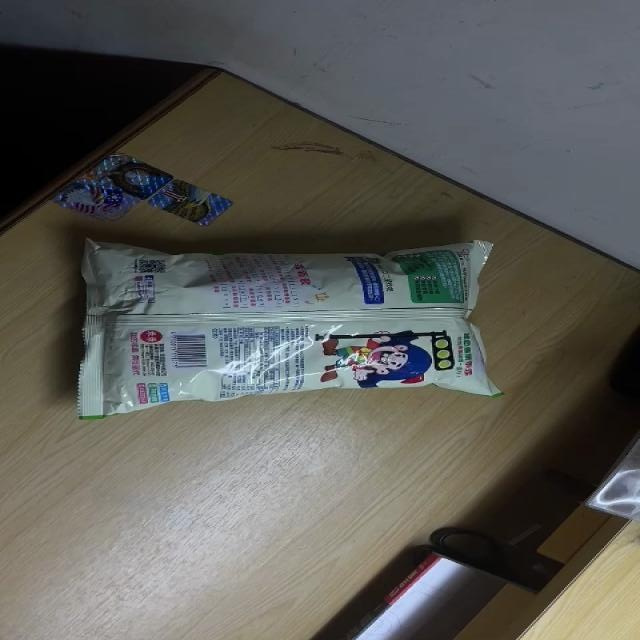Good-Luck: (76, 240, 505, 421)
